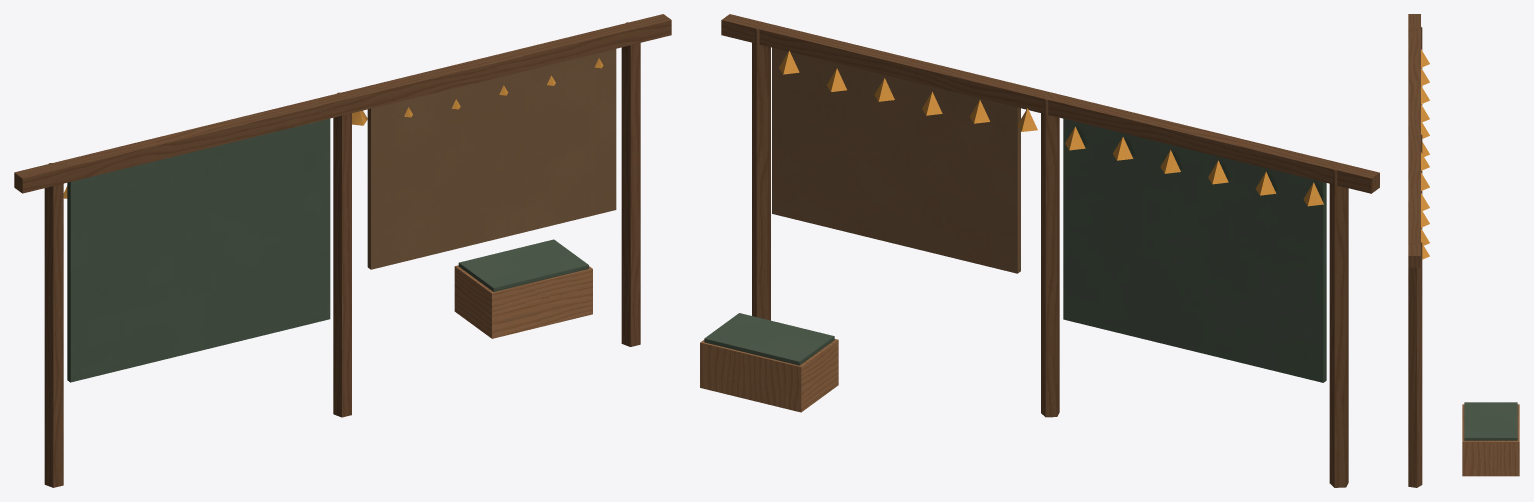
Rendered from natstallning_tex.glb.
3 renders of one model, left to right at view 1: azimuth 30°, elevation 25°; view 2: azimuth 150°, elevation 25°; view 3: azimuth 270°, elevation 25°, orthographic. The views are drawn at different scales.
Parts seen in each view (by area): view 1: natstallning; view 2: natstallning; view 3: natstallning.
Boxes of the visible parts, <box> form: natstallning: <box>14,14,671,487</box>; natstallning: <box>700,14,1379,487</box>; natstallning: <box>1408,14,1519,487</box>.
Size of the model in its own units: 4.5 by 2.1 by 0.875.
Materials: 5 (5 with a texture image).
